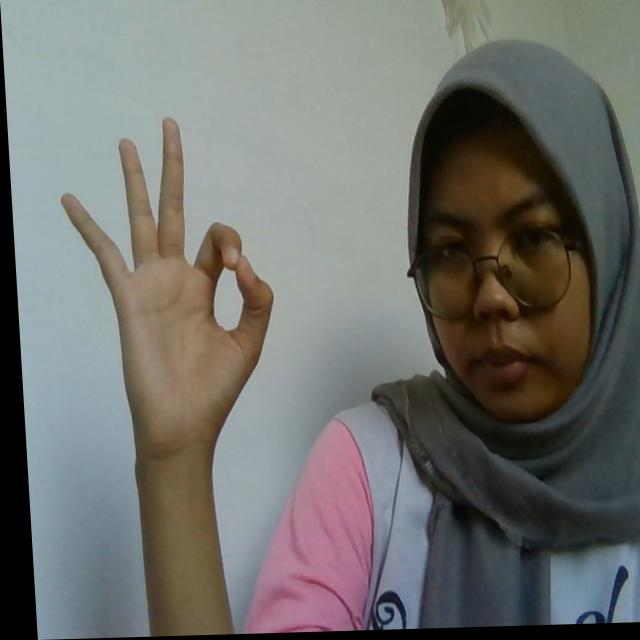F: (54, 117, 279, 449)
